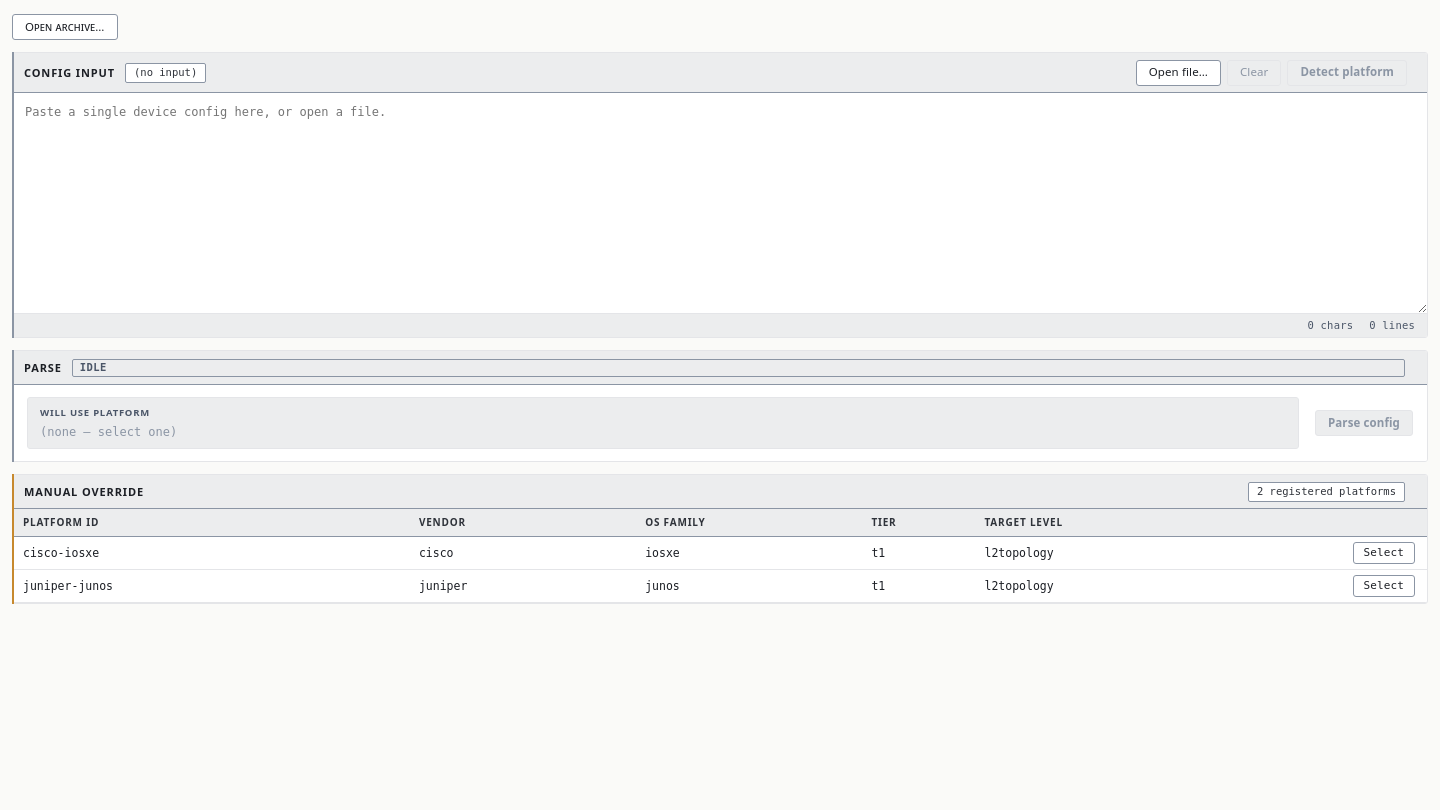
IntakePanel end-to-end (mocked) › surfaces a detection error in the parse status area
Type "x" into the text box named "Config text" at [720, 203], box x1=13 y1=93 x2=1427 y2=313
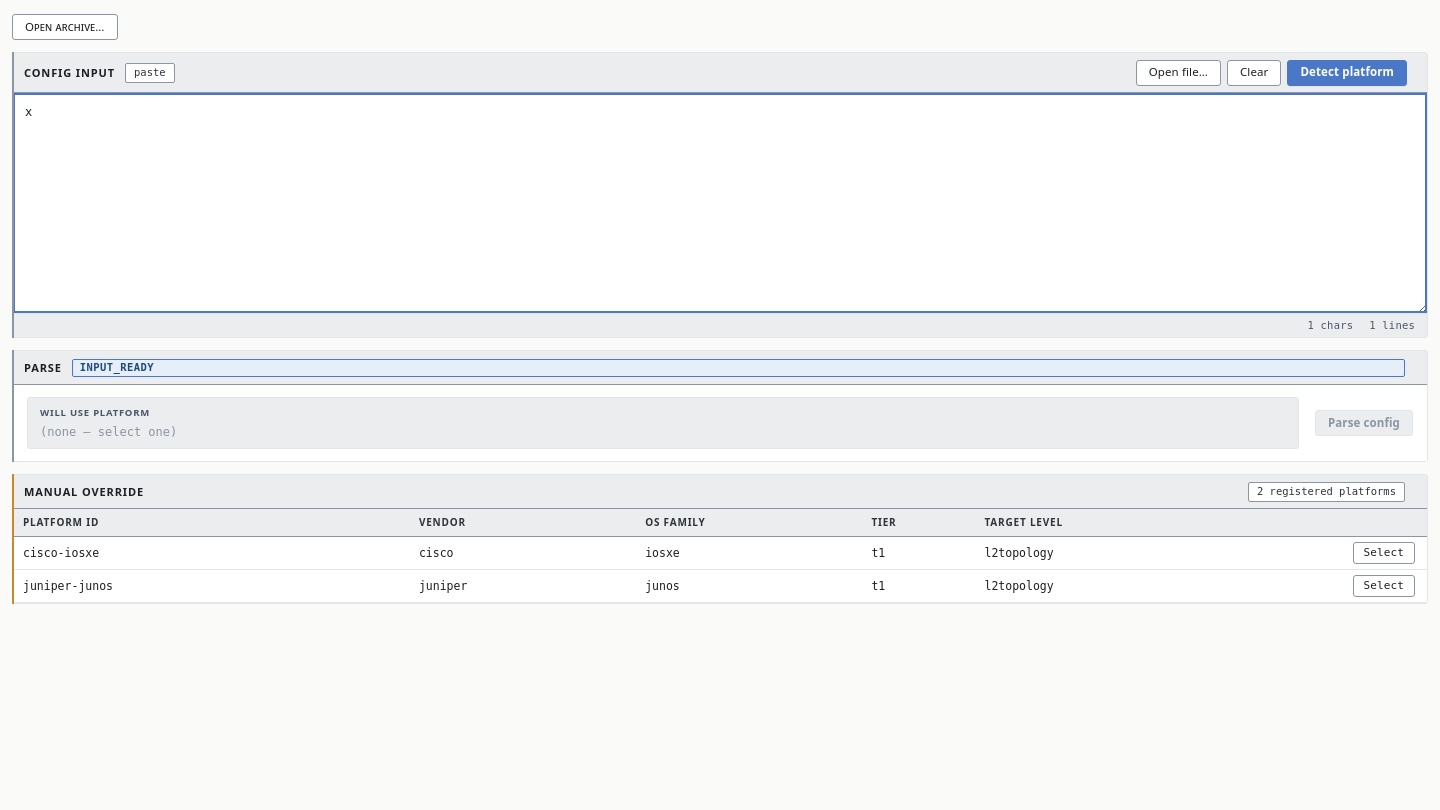
Click the button "Detect platform" at [1347, 72], box x1=1288 y1=60 x2=1407 y2=86
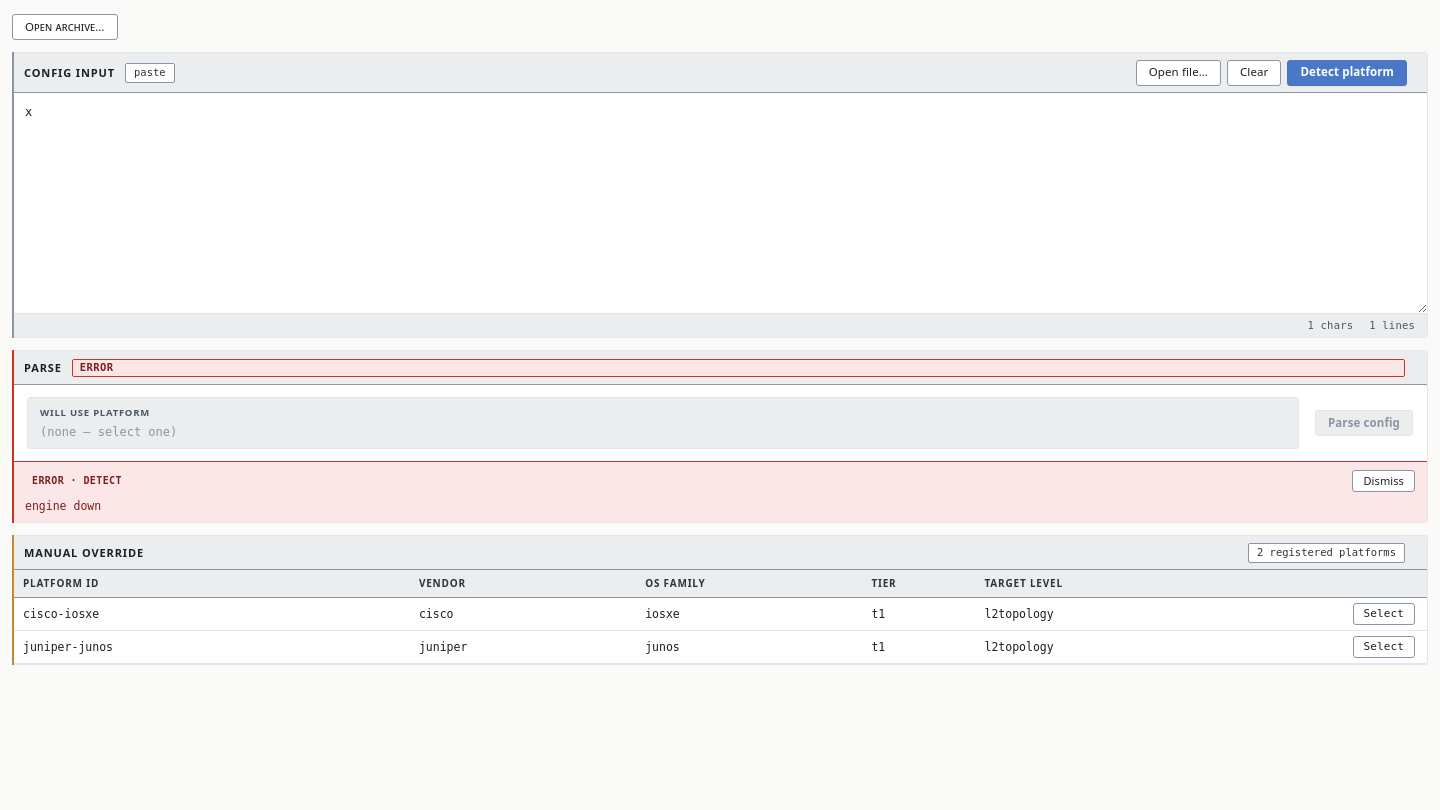
expect the message shows "engine down": met, box x1=25 y1=499 x2=101 y2=513
